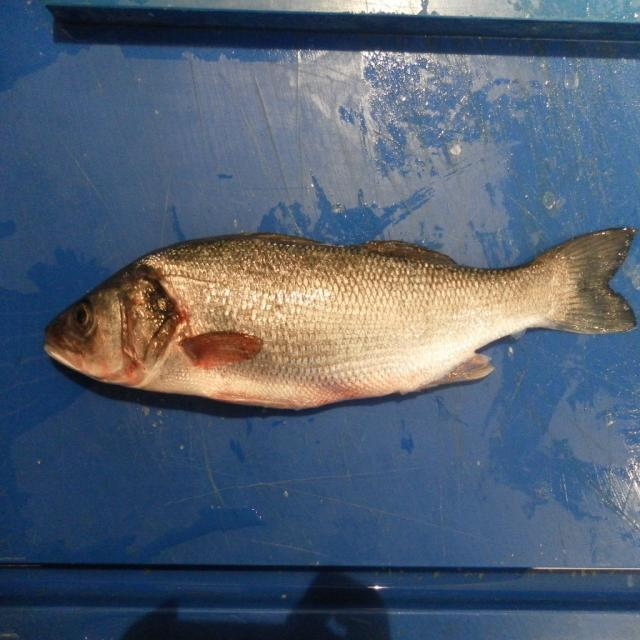Sea-Bass-levrek-: (42, 227, 640, 415)
